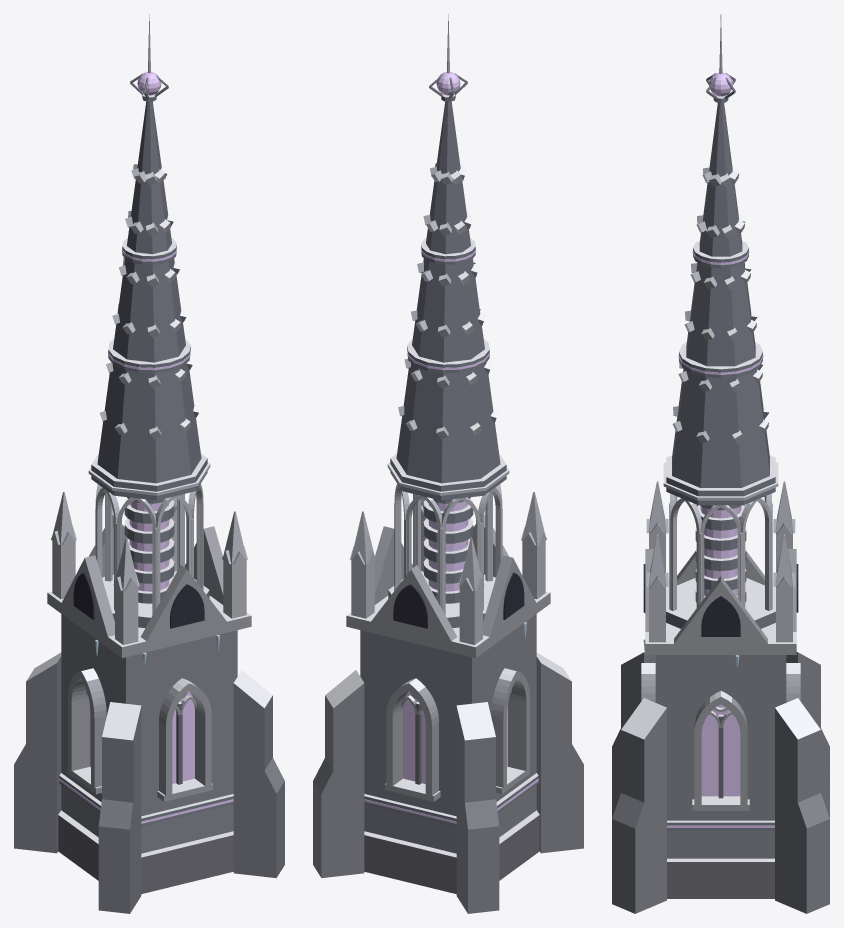
The model's file is PR_Torre_Antena.fbx.
The picture shows the model from 3 angles, left to right: view 1: azimuth 30°, elevation 25°; view 2: azimuth 150°, elevation 25°; view 3: azimuth 270°, elevation 25°; orthographic projection.
Visible parts, largest first — view 1: PR_Torre_Antena; view 2: PR_Torre_Antena; view 3: PR_Torre_Antena.
Boxes of the visible parts, x1,y1,x2,y2 form: PR_Torre_Antena: (14,14,284,913); PR_Torre_Antena: (313,14,583,913); PR_Torre_Antena: (612,14,829,913).
Size of the model in its own units: 5.32 by 23.02 by 5.32.
